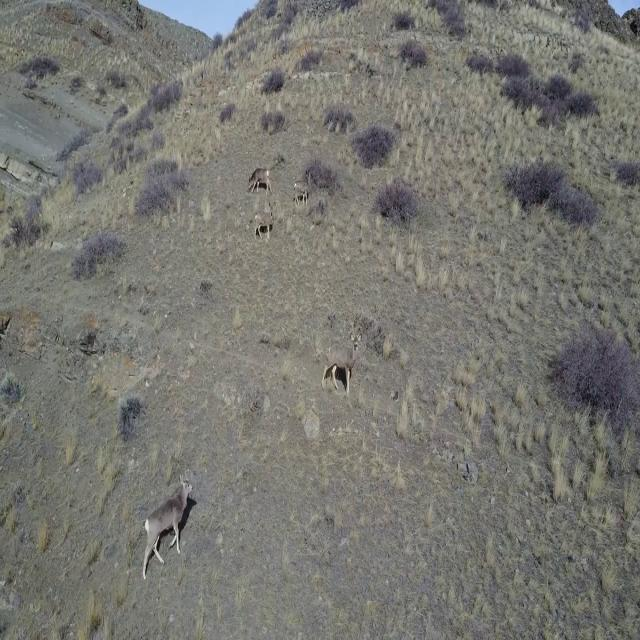Deer: (142, 465, 198, 581), (319, 320, 367, 404), (250, 208, 280, 250), (292, 163, 314, 208), (248, 163, 276, 198)
